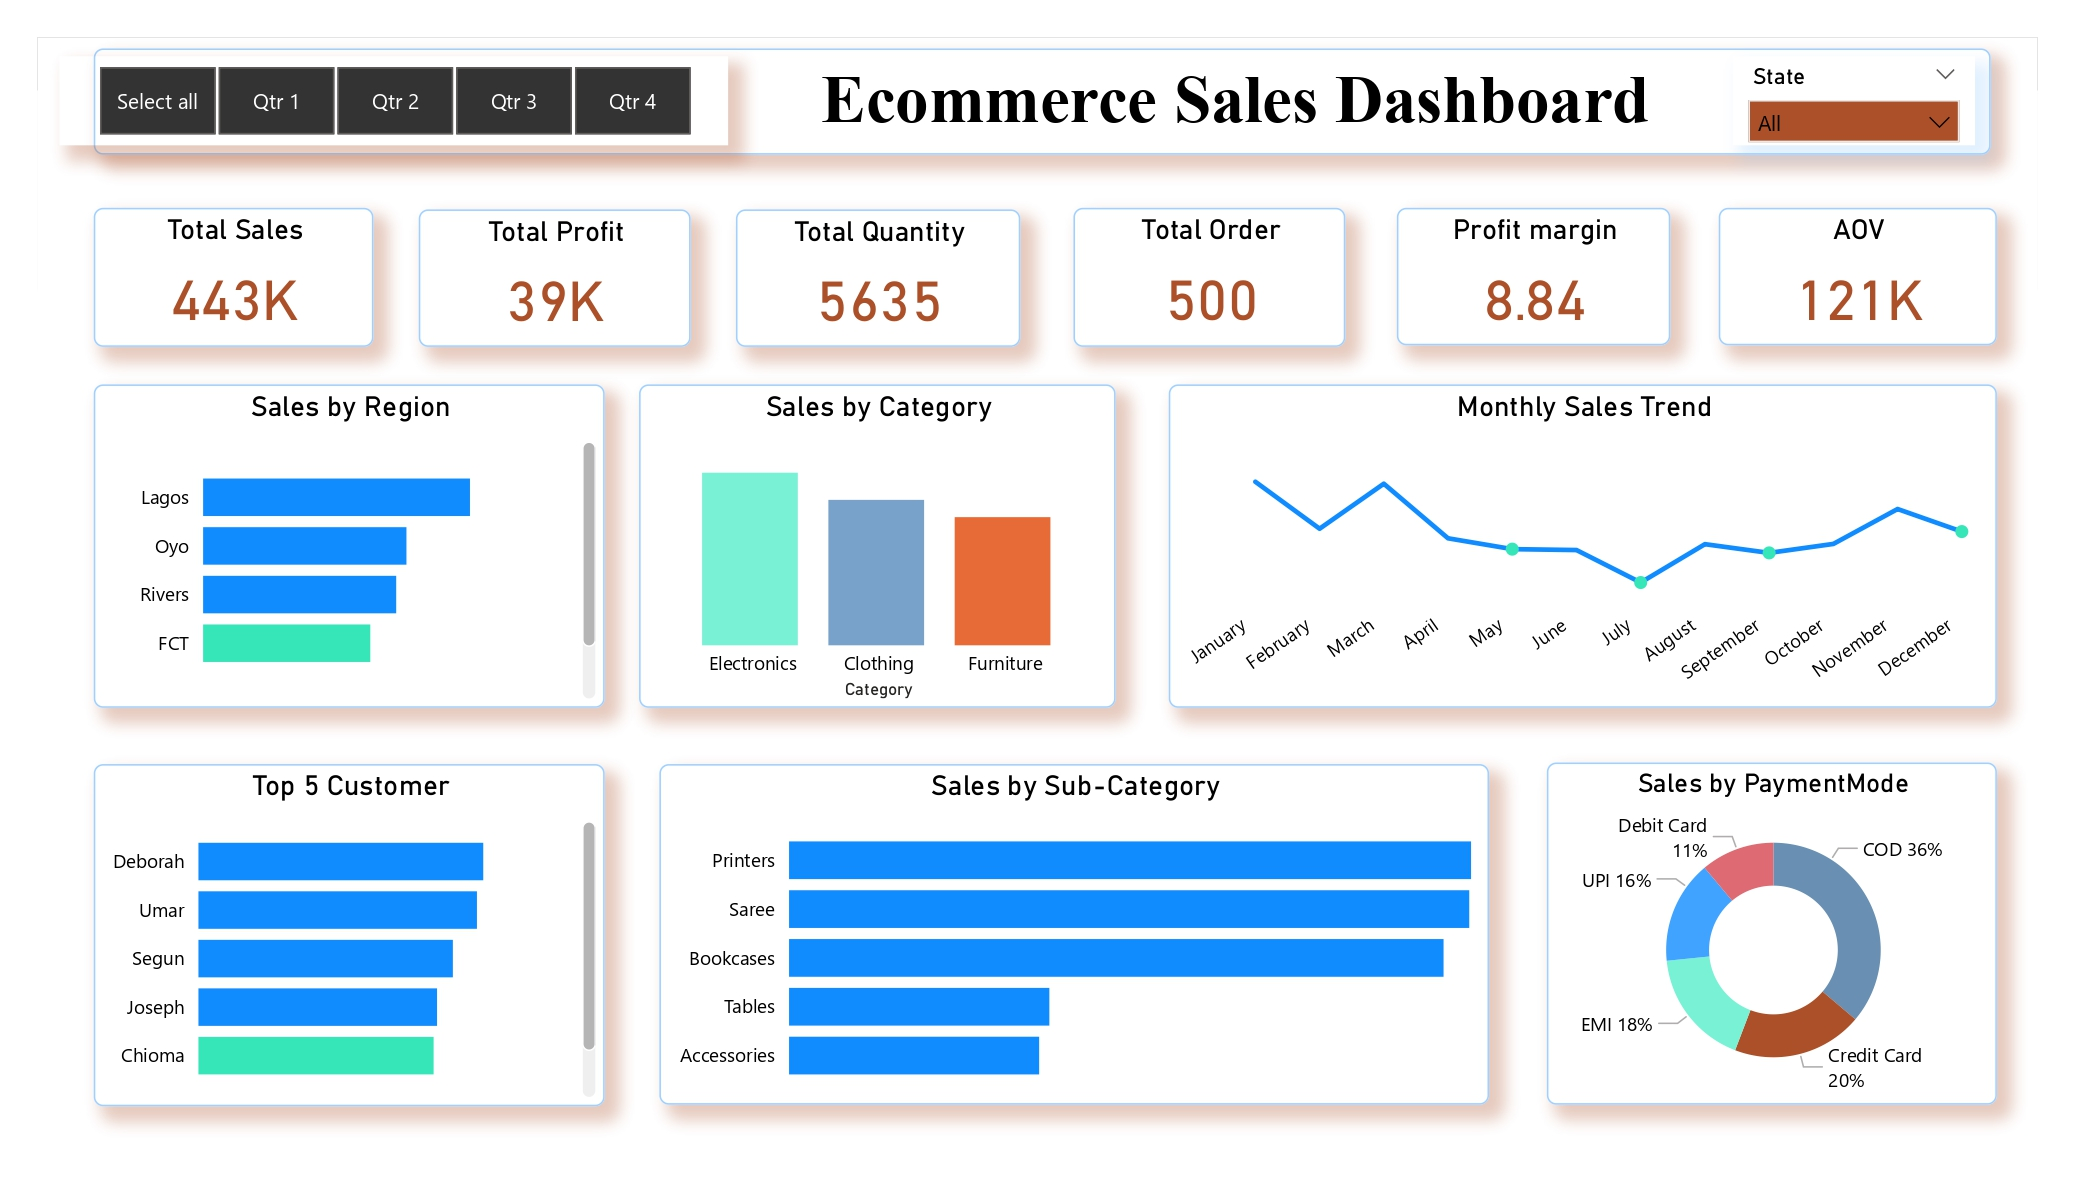

What the dashboard file says about the page in this screenshot:
{"tool":"powerbi","page":{"name":"Page 1","canvas":[1280,720],"ordinal":0},"visuals":[{"type":"textbox","box":[36,6.8,1213.9,68.1],"z":0},{"type":"columnChart","title":"Profit by Month","fields":{"Category":["Orders.Order Date.Variation.Date Hierarchy.Month"],"Y":["Sum(Details.Profit)"]},"box":[719.8,181.9,530.1,258.7],"z":1000},{"type":"barChart","fields":{"Category":["Details.Sub-Category"],"Y":["Sum(Details.Profit)"]},"box":[719.8,478.5,530.1,218.8],"z":2000},{"type":"donutChart","fields":{"Category":["Details.Category"],"Y":["Sum(Details.Quantity)"]},"box":[388.1,232.5,304.4,208.1],"z":3000},{"type":"donutChart","fields":{"Category":["Details.PaymentMode"],"Y":["Sum(Details.Quantity)"]},"box":[404.6,478.5,287.9,218.8],"z":4000},{"type":"card","fields":{"Values":["Sum(Details.Amount)"]},"box":[36,108.9,137,88.5],"z":5000},{"type":"card","fields":{"Values":["Sum(Details.Quantity)"]},"box":[215,108.9,137.1,88.5],"z":6000},{"type":"card","fields":{"Values":["Sum(Details.Profit)"]},"box":[388.1,108.9,137.1,88.5],"z":7000},{"type":"card","fields":{"Values":["Sum(Details.AOV)"]},"box":[555.4,108.9,137.1,88.5],"z":8000},{"type":"barChart","fields":{"Category":["Orders.State"],"Y":["Sum(Details.Amount)"]},"box":[25.3,232.5,326.8,208.1],"z":9000},{"type":"columnChart","fields":{"Y":["Sum(Details.Amount)"],"Category":["Orders.CustomerName"]},"box":[25,479,327,219],"z":10000},{"type":"slicer","fields":{"Values":["Orders.Order Date.Variation.Date Hierarchy.Quarter"]},"box":[719.8,108.9,351.1,55.4],"z":11000},{"type":"slicer","fields":{"Values":["Orders.State"]},"box":[1096.2,108.9,153.7,55.4],"z":12000},{"type":"textbox","box":[1.4,7.2,122.4,53.3],"z":12001}]}

Visuals, with their boxes on the page's 1280x720 design canvas (x1, y1, x2, y2). These are canvas units, not pixel positions in the 2075x1200 screenshot, which may show the page scaled, cropped or inside an application window:
textbox: box=[36, 7, 1250, 75]
"Profit by Month" columnChart: box=[720, 182, 1250, 441]
barChart - Details.Sub-Category x Sum(Details.Profit): box=[720, 478, 1250, 697]
donutChart - Details.Category x Sum(Details.Quantity): box=[388, 232, 692, 441]
donutChart - Details.PaymentMode x Sum(Details.Quantity): box=[405, 478, 692, 697]
card - Sum(Details.Amount): box=[36, 109, 173, 197]
card - Sum(Details.Quantity): box=[215, 109, 352, 197]
card - Sum(Details.Profit): box=[388, 109, 525, 197]
card - Sum(Details.AOV): box=[555, 109, 692, 197]
barChart - Orders.State x Sum(Details.Amount): box=[25, 232, 352, 441]
columnChart - Sum(Details.Amount) x Orders.CustomerName: box=[25, 479, 352, 698]
slicer - Orders.Order Date.Variation.Date Hierarchy.Quarter: box=[720, 109, 1071, 164]
slicer - Orders.State: box=[1096, 109, 1250, 164]
textbox: box=[1, 7, 124, 60]
